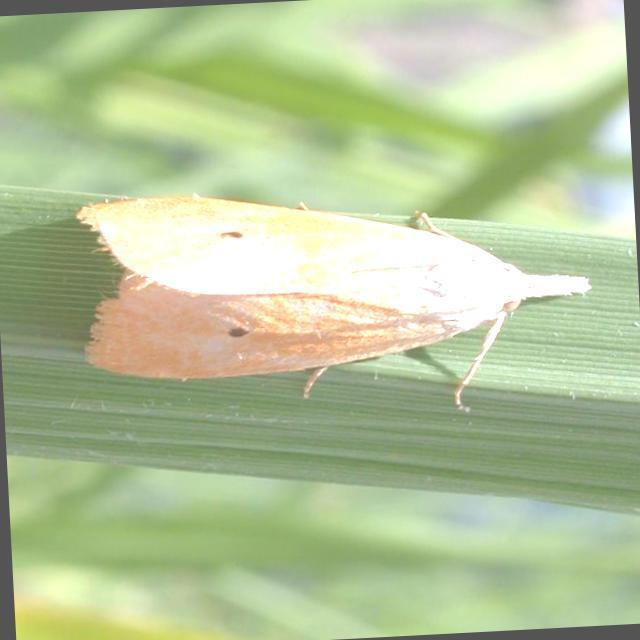stem borer: (77, 196, 590, 406)
